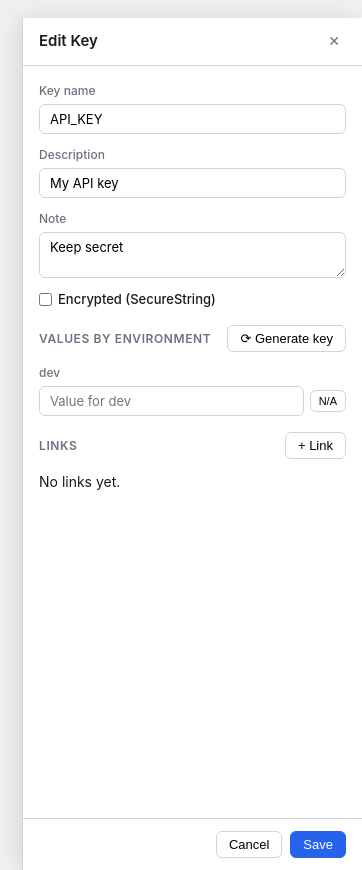
it: KeyDetailPanel › copies to clipboard and shows Copied when Generate key is clicked
This screenshot has width=362, height=870.
Click the button "⟳ Generate key" at (287, 338), box [227,325,346,352]
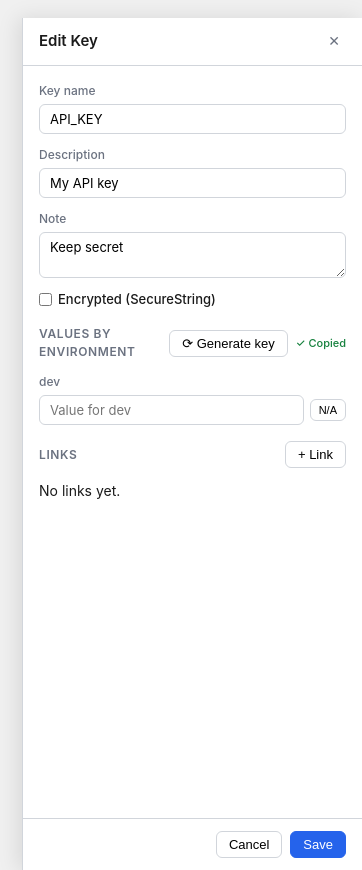
Check: the text "✓ Copied" is shown, box [296,335,346,351]
